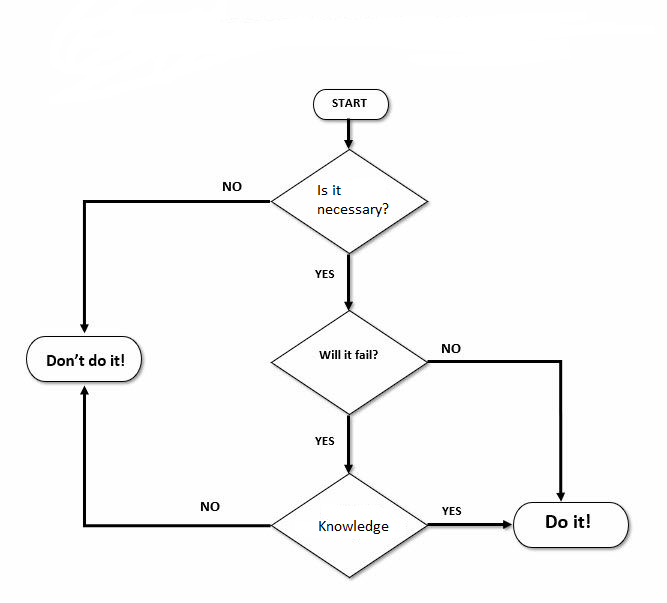arrow: (76, 383, 272, 530), (78, 197, 268, 333), (429, 356, 565, 504), (431, 518, 516, 529), (342, 413, 355, 476), (342, 250, 355, 312), (341, 119, 355, 153)
decision: (269, 474, 429, 579), (270, 310, 430, 414), (271, 150, 428, 251)
terminator: (511, 499, 632, 552), (26, 334, 146, 386), (311, 85, 392, 124)
text: (316, 181, 390, 220), (44, 351, 128, 370), (315, 516, 392, 536), (543, 510, 590, 534), (317, 349, 381, 365), (328, 93, 371, 111), (310, 431, 336, 448), (195, 498, 222, 514), (439, 338, 461, 357), (313, 263, 335, 280), (219, 178, 243, 192), (441, 503, 464, 517)
